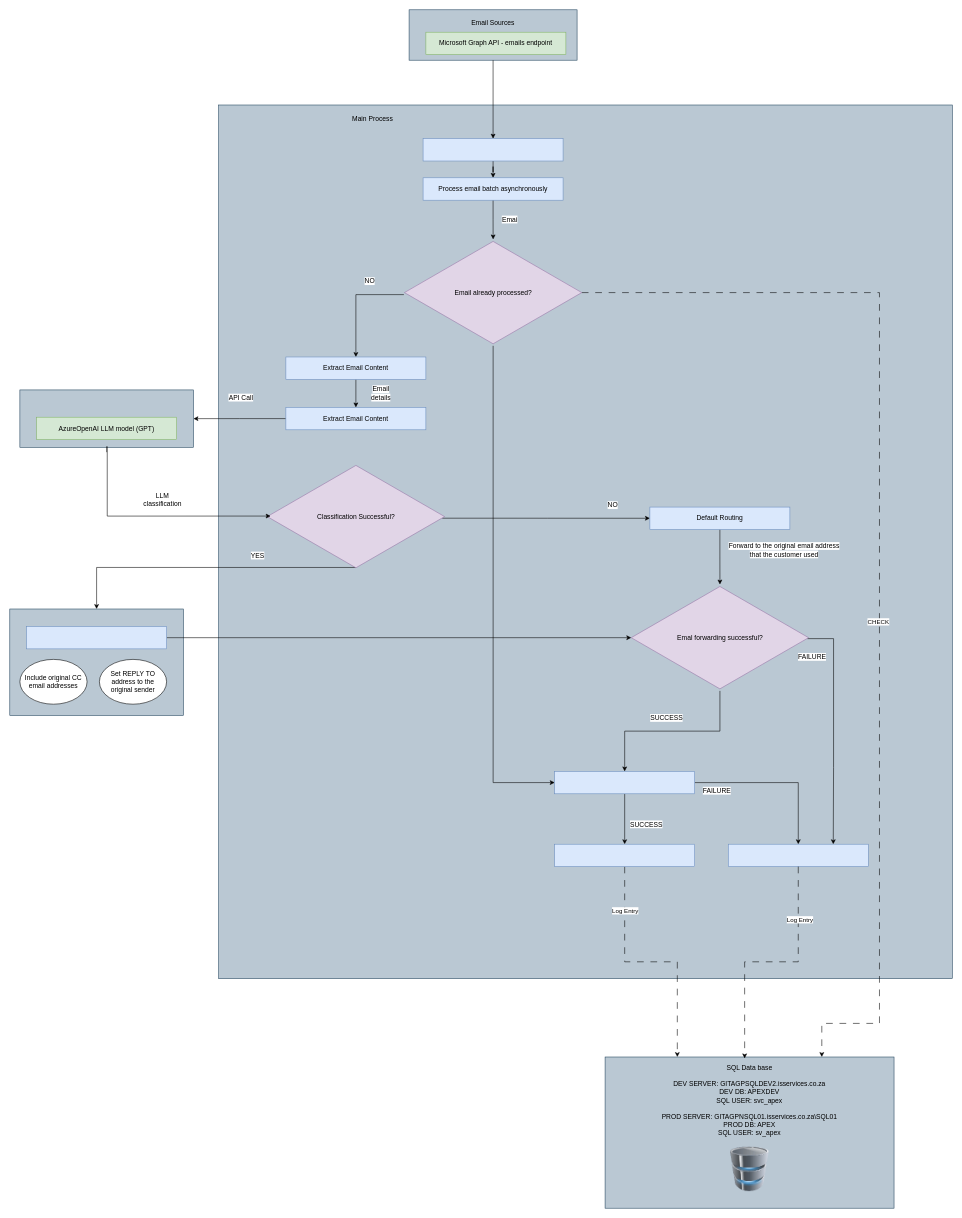
This 962x1218 diagram has some shape labels left out. Each missing label, with the box of its shape:
AzureOpenAI Services: (19, 389, 193, 447)
Email Forwarding: (9, 608, 183, 715)
Fetch unread emails 10 emails every 30 seconds: (423, 138, 563, 161)
Forward Email to mapped address: (26, 626, 167, 649)
Log Failure: (728, 844, 868, 867)
Log success: (554, 844, 695, 867)
Mark email as read: (554, 771, 695, 794)
